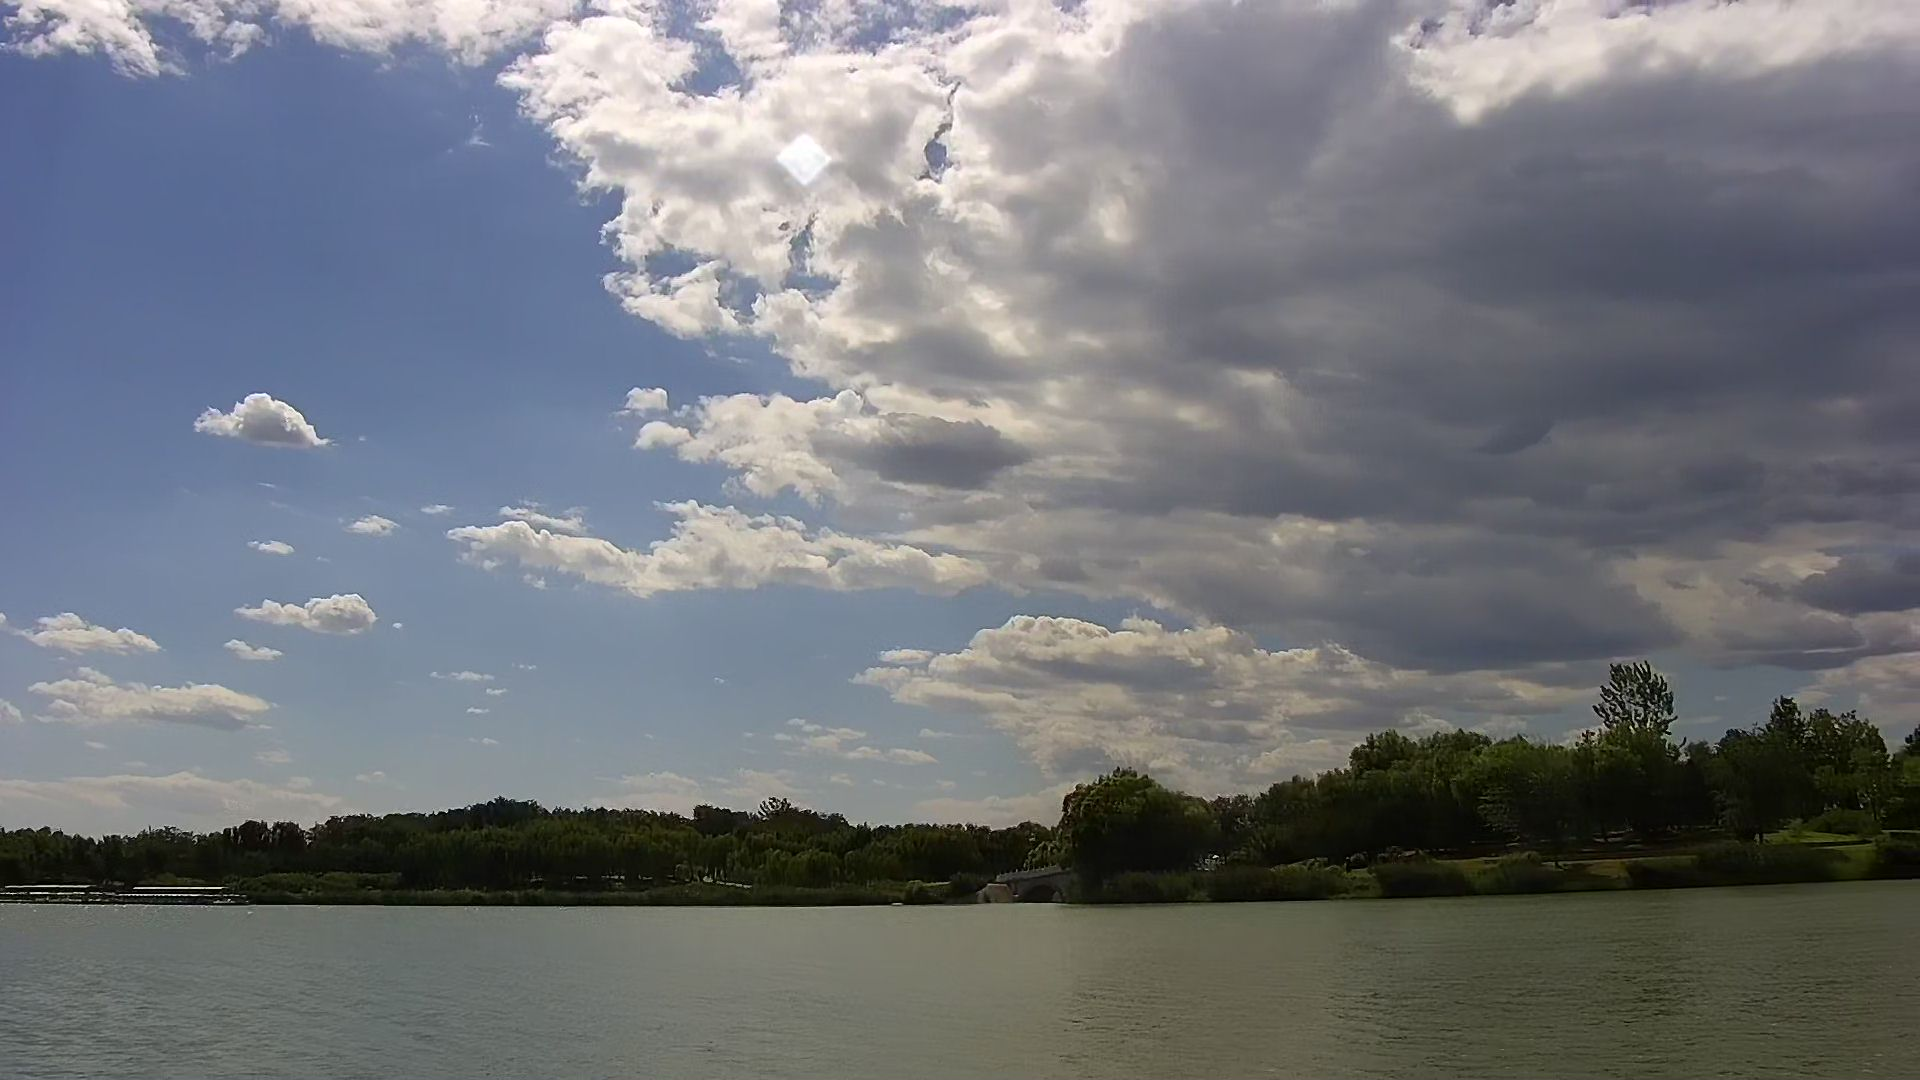harbor: (5, 880, 227, 906)
